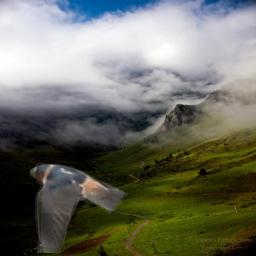Swallow: (30, 160, 128, 253)
